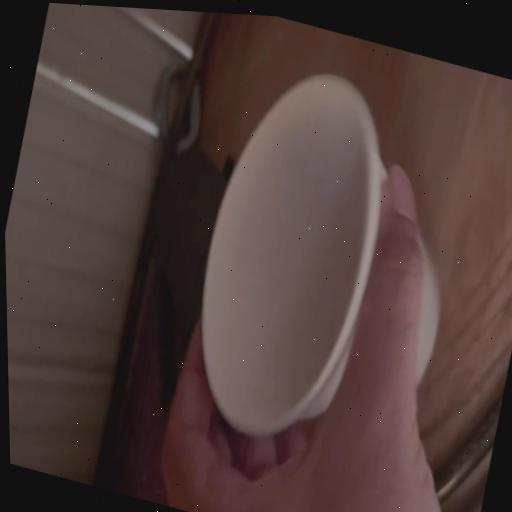Ly_giay: (201, 74, 386, 434), (202, 74, 386, 434), (412, 230, 439, 387)
